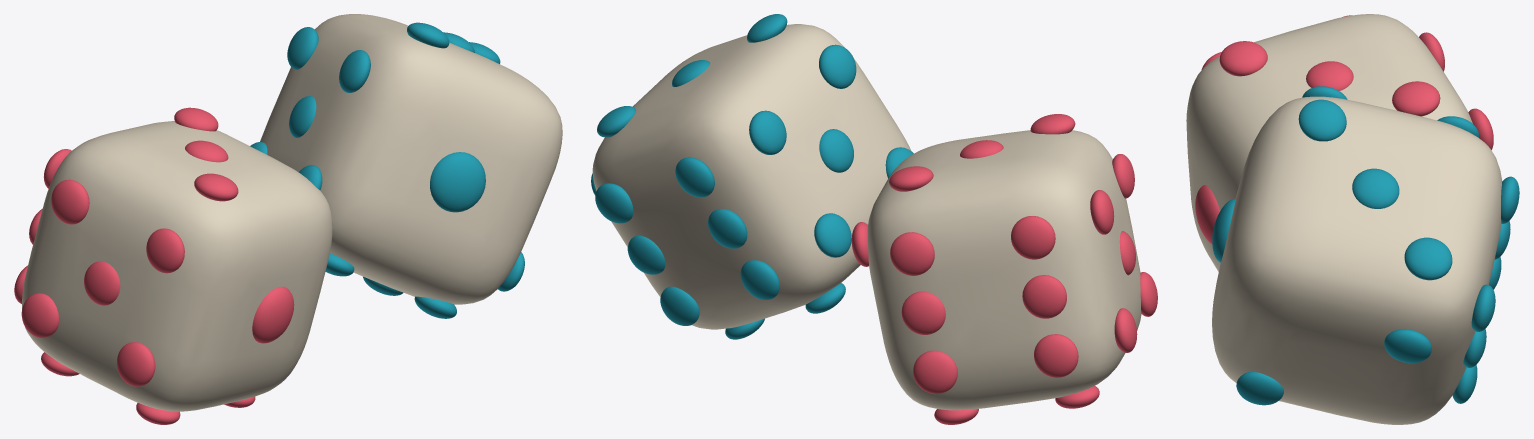
File: reaccion_dados.glb
3 renders of one model, left to right at view 1: azimuth 30°, elevation 25°; view 2: azimuth 150°, elevation 25°; view 3: azimuth 270°, elevation 25°, orthographic. The views are drawn at different scales.
Visible parts, largest first — view 1: dado rosa, dado turquesa, punto dado turquesa, punto dado rosa, punto dado rosa.010, punto dado rosa.009, punto dado rosa.013, punto dado rosa.012, punto dado rosa.011, punto dado turquesa.010, punto dado rosa.014, punto dado turquesa.013 (+6 smaller); view 2: dado turquesa, dado rosa, punto dado rosa.006, punto dado rosa.003, punto dado rosa.001, punto dado rosa.002, punto dado rosa.004, punto dado rosa.005, punto dado turquesa.012, punto dado turquesa.013, punto dado turquesa.010, punto dado turquesa.003 (+21 smaller); view 3: dado turquesa, dado rosa, punto dado turquesa.016, punto dado turquesa.014, punto dado turquesa.015, punto dado rosa.014, punto dado rosa.016, punto dado turquesa.008, punto dado turquesa.007, punto dado rosa.015, punto dado rosa, punto dado turquesa.006 (+9 smaller).
Part boxes in pixels (left/top/right/bottom): dado rosa: left=22, top=121, right=332, bottom=411; dado turquesa: left=260, top=14, right=562, bottom=304; punto dado turquesa: left=430, top=152, right=485, bottom=212; punto dado rosa: left=252, top=286, right=294, bottom=343; punto dado rosa.010: left=146, top=228, right=184, bottom=273; punto dado rosa.009: left=117, top=342, right=155, bottom=386; punto dado rosa.013: left=51, top=179, right=89, bottom=224; punto dado rosa.012: left=21, top=293, right=58, bottom=337; punto dado rosa.011: left=84, top=261, right=120, bottom=305; punto dado turquesa.010: left=339, top=50, right=370, bottom=92; punto dado rosa.014: left=194, top=173, right=238, bottom=201; punto dado turquesa.013: left=287, top=27, right=318, bottom=69; dado turquesa: left=592, top=24, right=911, bottom=329; dado rosa: left=867, top=130, right=1141, bottom=410; punto dado rosa.006: left=890, top=232, right=934, bottom=275; punto dado rosa.003: left=1011, top=216, right=1055, bottom=259; punto dado rosa.001: left=1034, top=334, right=1078, bottom=377; punto dado rosa.002: left=1022, top=275, right=1066, bottom=318; punto dado rosa.004: left=913, top=350, right=957, bottom=394; punto dado rosa.005: left=901, top=291, right=945, bottom=334; punto dado turquesa.012: left=814, top=213, right=851, bottom=257; punto dado turquesa.013: left=749, top=110, right=786, bottom=154; punto dado turquesa.010: left=819, top=44, right=856, bottom=88; punto dado turquesa.003: left=675, top=157, right=714, bottom=197; dado turquesa: left=1212, top=96, right=1502, bottom=424; dado rosa: left=1186, top=14, right=1472, bottom=271; punto dado turquesa.016: left=1404, top=237, right=1452, bottom=280; punto dado turquesa.014: left=1298, top=99, right=1346, bottom=141; punto dado turquesa.015: left=1352, top=168, right=1399, bottom=208; punto dado rosa.014: left=1219, top=41, right=1267, bottom=76; punto dado rosa.016: left=1392, top=81, right=1440, bottom=116; punto dado turquesa.008: left=1384, top=329, right=1431, bottom=363; punto dado turquesa.007: left=1236, top=371, right=1283, bottom=405; punto dado rosa.015: left=1306, top=61, right=1353, bottom=90; punto dado rosa: left=1195, top=185, right=1219, bottom=244; punto dado turquesa.006: left=1471, top=284, right=1495, bottom=331.
Bounding box in the file's own units: 0.4532 × 0.2755 × 0.2376.
